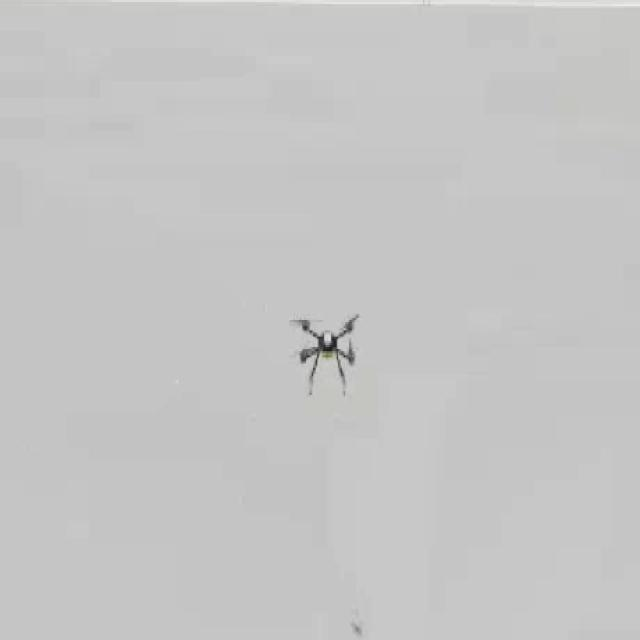drone: (290, 306, 368, 398)
